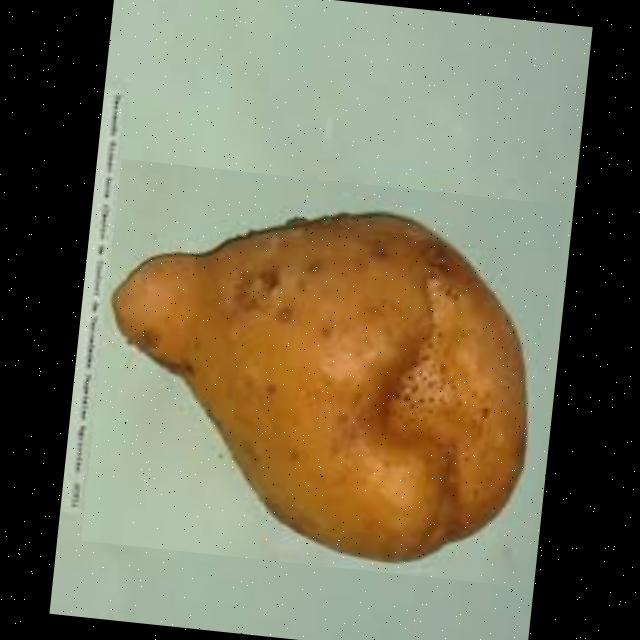Damaged potato: (80, 158, 566, 587)
